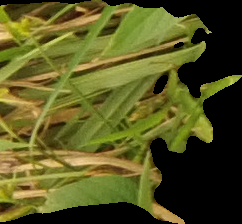grass: (1, 1, 240, 222)
